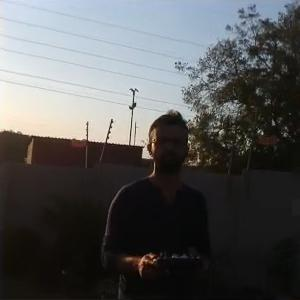follow: (96, 108, 215, 298)
